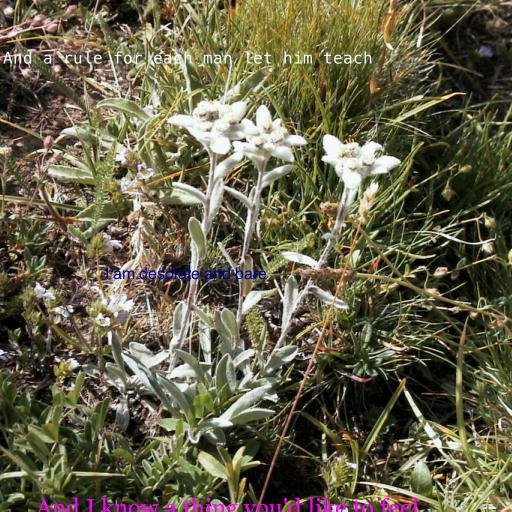Georgia: (35, 497, 419, 512)
Impact: (105, 267, 267, 280)
Menlo: (3, 51, 373, 64)
